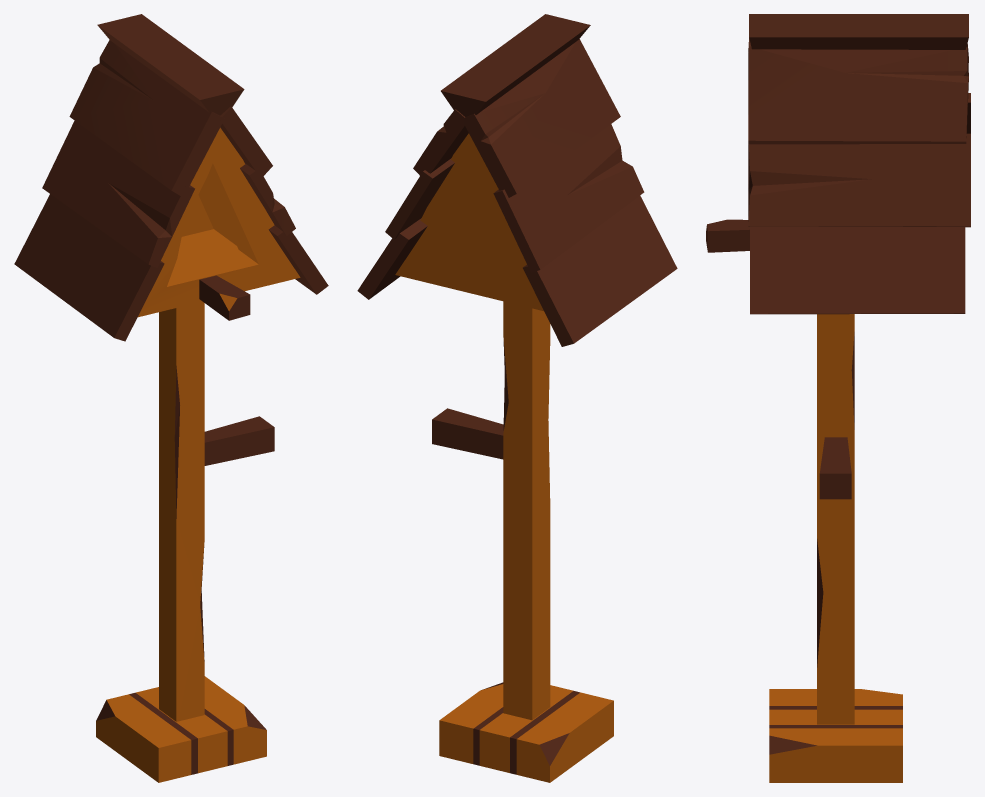
File: Bird_House_1.fbx
3 views of the same model, side by side, from view 1: azimuth 30°, elevation 25°; view 2: azimuth 150°, elevation 25°; view 3: azimuth 270°, elevation 25° (orthographic). The views are drawn at different scales.
Visible parts, largest first — view 1: Bird_House_1; view 2: Bird_House_1; view 3: Bird_House_1.
Boxes of the visible parts, x1,y1,x2,y2 form: Bird_House_1: [14, 14, 328, 782]; Bird_House_1: [357, 14, 677, 782]; Bird_House_1: [706, 14, 970, 782].
Bounding box in the file's own units: 18.14 × 55.1 × 18.14.
